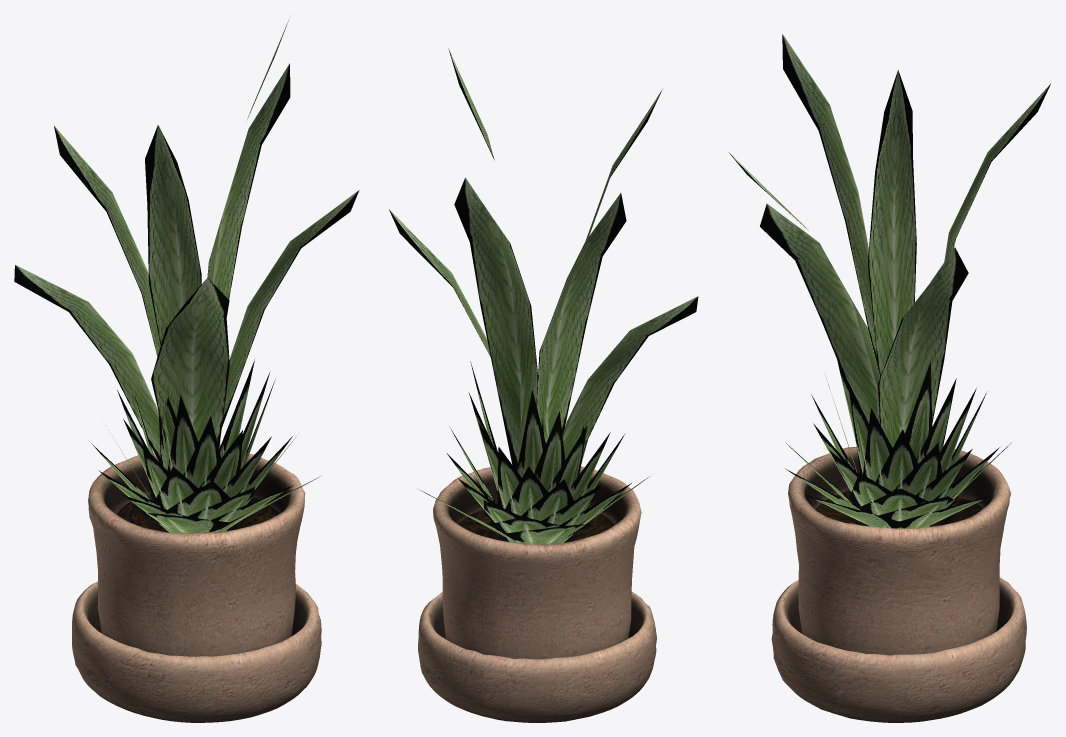
The picture shows the model from 3 angles, left to right: view 1: azimuth 30°, elevation 25°; view 2: azimuth 150°, elevation 25°; view 3: azimuth 270°, elevation 25°; orthographic projection. The views are drawn at different scales.
Visible parts, largest first — view 1: Low-Poly Plant_, Low-Poly Plant_.001; view 2: Low-Poly Plant_, Low-Poly Plant_.001; view 3: Low-Poly Plant_, Low-Poly Plant_.001.
Boxes of the visible parts, x1=… form: Low-Poly Plant_: x1=72, y1=452, x2=321, y2=722; Low-Poly Plant_.001: x1=14, y1=20, x2=359, y2=533; Low-Poly Plant_: x1=418, y1=466, x2=656, y2=722; Low-Poly Plant_.001: x1=389, y1=48, x2=698, y2=544; Low-Poly Plant_: x1=771, y1=446, x2=1026, y2=722; Low-Poly Plant_.001: x1=729, y1=34, x2=1050, y2=528.
Bounding box in the file's own units: 0.6533 × 1.35 × 0.5929.
2 materials, 2 textured.
